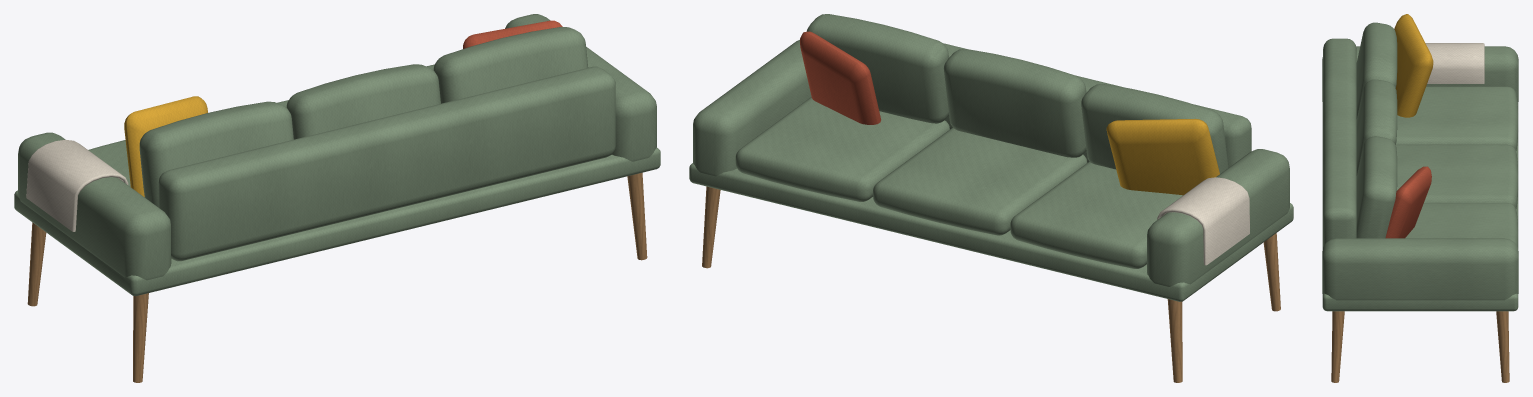
File: sofa.glb
3 renders of one model, left to right at view 1: azimuth 30°, elevation 25°; view 2: azimuth 150°, elevation 25°; view 3: azimuth 270°, elevation 25°, orthographic. The views are drawn at different scales.
Parts seen in each view (by area): view 1: sofa; view 2: sofa; view 3: sofa.
Part boxes in pixels (<box>): sofa: <box>14,14,660,382</box>; sofa: <box>689,14,1293,382</box>; sofa: <box>1322,14,1518,382</box>.
Size of the model in its own units: 10.77 by 4.34 by 4.22.
6 materials, 5 textured.
